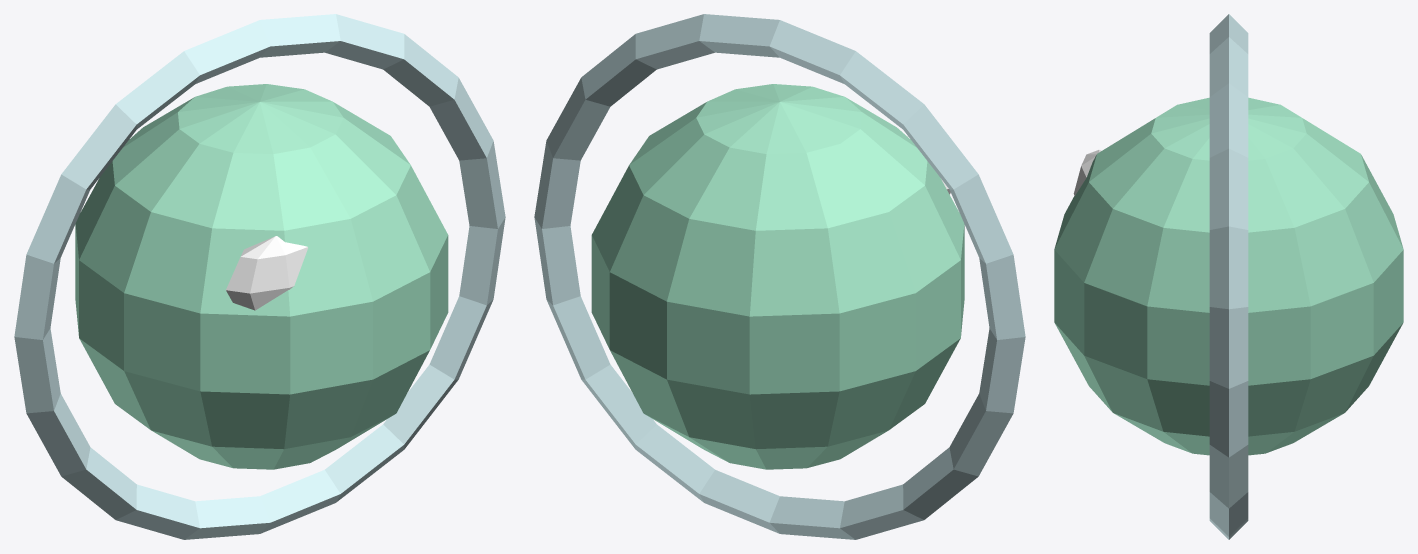
The model's file is orbe_recarga.glb.
3 views of the same model, side by side, from view 1: azimuth 30°, elevation 25°; view 2: azimuth 150°, elevation 25°; view 3: azimuth 270°, elevation 25° (orthographic). The views are drawn at different scales.
Visible parts, largest first — view 1: orbe_recarga; view 2: orbe_recarga; view 3: orbe_recarga.
Boxes of the visible parts, left/top/right/bottom form: orbe_recarga: left=14, top=14, right=505, bottom=539; orbe_recarga: left=534, top=14, right=1025, bottom=539; orbe_recarga: left=1054, top=14, right=1403, bottom=539.
Size of the model in its own units: 0.734 by 0.734 by 0.4839.
